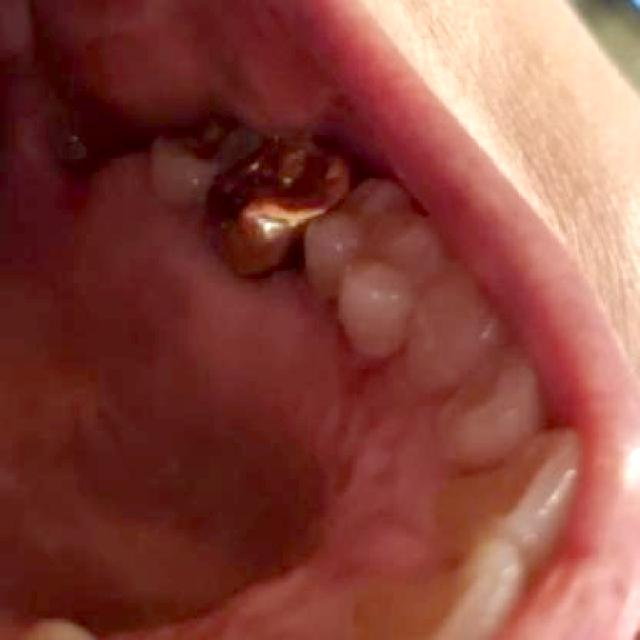Plaque: (206, 257, 400, 392)
